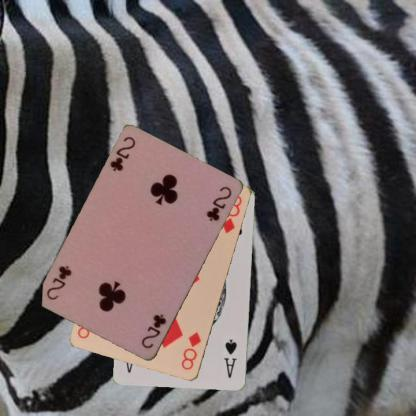2c: (107, 134, 137, 173), (139, 312, 168, 350)
8d: (178, 329, 203, 372)
As: (222, 336, 238, 380)
